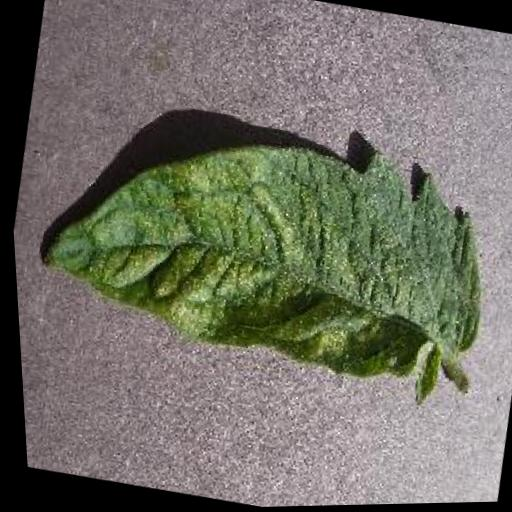Spider Mites: (18, 93, 507, 407)
